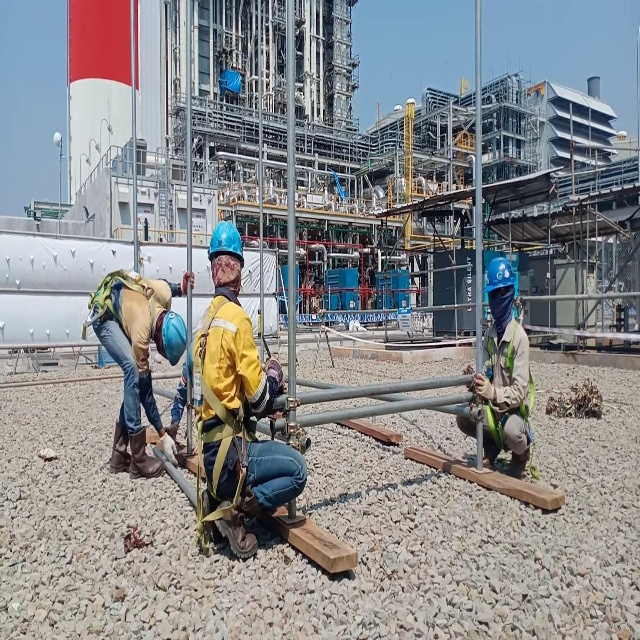Arnes_seguridad: (190, 295, 252, 563), (481, 317, 539, 461), (76, 260, 170, 340)
